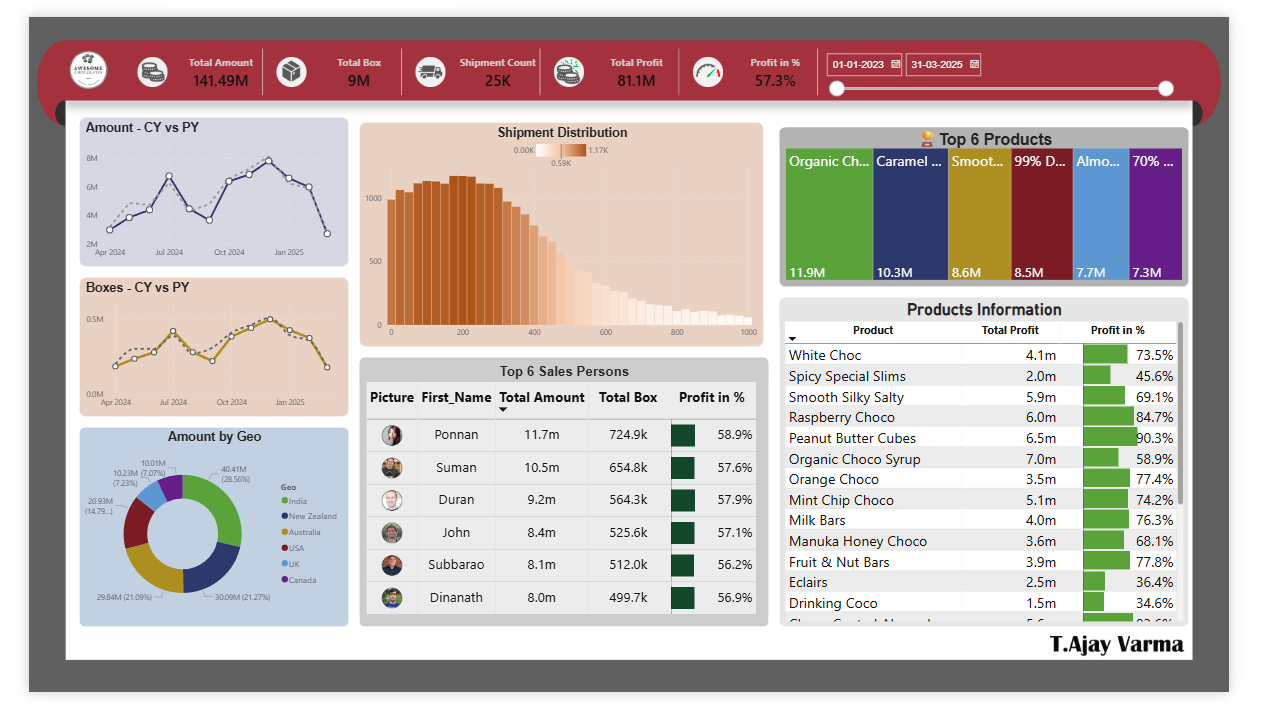

Layout of this report page (visuals, bound fields, positions):
{"tool":"powerbi","page":{"name":"BI REPORT","canvas":[1920,1080],"ordinal":0},"visuals":[{"type":"lineChart","title":"Amount - CY vs PY","fields":{"Y":["shipments.Total Amount","shipments.Total Amount (Last Year)"],"Category":["calendar.Start of Month"]},"box":[80,160,432,240],"z":0},{"type":"lineChart","title":"Boxes - CY vs PY","fields":{"Category":["calendar.Start of Month"],"Y":["shipments.Total Box","shipments.Total Boxes(Last Year)"]},"box":[80,416,432,224],"z":1000},{"type":"donutChart","title":"Amount by Geo","fields":{"Category":["locations.Geo"],"Y":["shipments.Total Amount"]},"box":[80,656,432,320],"z":2000},{"type":"clusteredColumnChart","title":"Shipment Distribution","fields":{"Category":["shipments.Boxes (bins)"],"Y":["shipments.Shipment Cost"]},"box":[528,168,648,360],"z":3000},{"type":"tableEx","title":"Top 6 Sales Persons","fields":{"Values":["people.Picture","people.First_Name","shipments.Total Amount","shipments.Total Box","shipments.Profit in %"]},"box":[528,544,656,432],"z":4000},{"type":"tableEx","title":"Products Information","fields":{"Values":["products.Product","shipments.Total Profit","shipments.Profit in %"]},"box":[1200,448,656,528],"z":5000},{"type":"treemap","title":"🏆Top 6 Products","fields":{"Values":["shipments.Total Amount"],"Group":["products.Product"]},"box":[1200,176,656,256],"z":6000},{"type":"cardVisual","fields":{"Data":["shipments.Total Amount","shipments.Total Box","shipments.Shipment Cost","shipments.Total Profit","shipments.Profit in %"]},"box":[144,32,1136,112],"z":7000},{"type":"slicer","fields":{"Values":["calendar.cal_date"]},"box":[1264,48,576,96],"z":7001}]}

Visuals, with their boxes in screenshot pixels (x1, y1, x2, y2), scaled from the page's 1920x1080 canvas onto the 1272x711 screenshot:
"Amount - CY vs PY" lineChart: (left=53, top=105, right=339, bottom=263)
"Boxes - CY vs PY" lineChart: (left=53, top=274, right=339, bottom=421)
"Amount by Geo" donutChart: (left=53, top=432, right=339, bottom=643)
"Shipment Distribution" clusteredColumnChart: (left=350, top=111, right=779, bottom=348)
"Top 6 Sales Persons" tableEx: (left=350, top=358, right=784, bottom=643)
"Products Information" tableEx: (left=795, top=295, right=1230, bottom=643)
"🏆Top 6 Products" treemap: (left=795, top=116, right=1230, bottom=284)
cardVisual - shipments.Total Amount x shipments.Total Box: (left=95, top=21, right=848, bottom=95)
slicer - calendar.cal_date: (left=837, top=32, right=1219, bottom=95)
